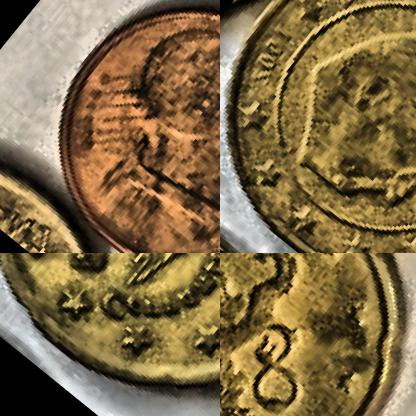coin: (2, 0, 219, 252), (220, 0, 415, 252), (0, 253, 219, 415), (220, 253, 415, 415)
